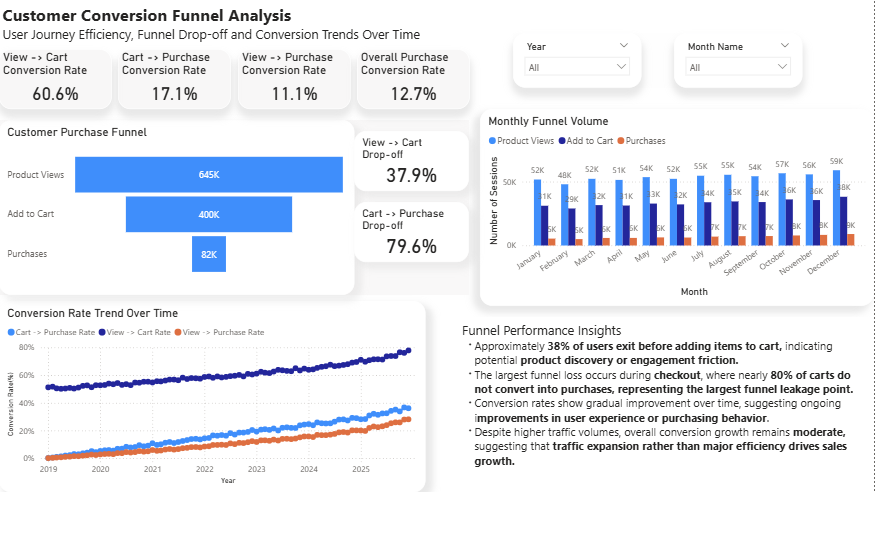

Layout of this report page (visuals, bound fields, positions):
{"tool":"powerbi","page":{"name":"Funnel & Conversion","canvas":[1280,720],"ordinal":1},"visuals":[{"type":"slicer","fields":{"Values":["agg_funnel_metrics.Year"]},"box":[752,48,188.4,80],"z":0,"group":"g3"},{"type":"card","title":"View -> Purchase Conversion Rate","fields":{"Values":["Avg(agg_funnel_metrics.view_to_purchase_rate)"]},"box":[349,72,164.6,88],"z":0,"group":"g1"},{"type":"clusteredColumnChart","title":"Monthly Funnel Volume","fields":{"Category":["agg_funnel_metrics.month.Variation.Date Hierarchy.Month"],"Y":["Sum(agg_funnel_metrics.product_view_sessions)","Sum(agg_funnel_metrics.add_to_cart_sessions)","Sum(agg_funnel_metrics.purchasing_users)"]},"box":[704,160,576,288],"z":0},{"type":"funnel","title":"Customer Purchase Funnel","fields":{"Category":["funnel_stage_table.Funnel Stage"],"Y":["Sum(funnel_stage_table.Funnel Value)"]},"box":[0,176,520,256],"z":0,"group":"g2"},{"type":"slicer","fields":{"Values":["agg_funnel_metrics.Month Name"]},"box":[987.6,48,188.4,80],"z":1000,"group":"g3"},{"type":"card","title":"Cart -> Purchase Conversion Rate","fields":{"Values":["Avg(agg_funnel_metrics.cart_to_purchase_rate)"]},"box":[174.5,72,164.6,88],"z":1000,"group":"g1"},{"type":"card","title":"View -> Cart Drop-off","fields":{"Values":["agg_funnel_metrics.View -> Cart Drop-off"]},"box":[520,192,168,88],"z":1000,"group":"g2"},{"type":"lineChart","title":"Conversion Rate Trend Over Time","fields":{"Y":["Avg(agg_funnel_metrics.cart_to_purchase_rate)","Avg(agg_funnel_metrics.view_to_cart_rate)","Avg(agg_funnel_metrics.view_to_purchase_rate)"],"Category":["agg_funnel_metrics.month.Variation.Date Hierarchy.Year","agg_funnel_metrics.month.Variation.Date Hierarchy.Month"]},"box":[0,440,624,280],"z":1000},{"type":"group","id":"g1","title":"Group 1","box":[0,72,688,88],"z":2000},{"type":"card","title":"View -> Cart Conversion Rate","fields":{"Values":["Avg(agg_funnel_metrics.view_to_cart_rate)"]},"box":[0,72,164.6,88],"z":2000,"group":"g1"},{"type":"card","title":"Cart -> Purchase Drop-off","fields":{"Values":["agg_funnel_metrics.Cart -> Purchase Drop-off"]},"box":[520,296,168,88],"z":2000,"group":"g2"},{"type":"textbox","box":[0,0,704,72],"z":3000},{"type":"card","title":"Overall Purchase Conversion Rate","fields":{"Values":["agg_funnel_metrics.Overall Conversion Rate"]},"box":[523.4,72,164.6,88],"z":3000,"group":"g1"},{"type":"textbox","box":[672,464,608,240],"z":4000},{"type":"group","id":"g2","title":"Group 2","box":[0,176,688,256],"z":5000},{"type":"group","id":"g3","title":"Group 3","box":[752,48,416,80],"z":6000}]}

Visuals, with their boxes on the page's 1280x720 design canvas (x1, y1, x2, y2). These are canvas units, not pixel positions in the 875x550 screenshot, which may show the page scaled, cropped or inside an application window:
slicer - agg_funnel_metrics.Year: (left=752, top=48, right=940, bottom=128)
"View -> Purchase Conversion Rate" card: (left=349, top=72, right=514, bottom=160)
"Monthly Funnel Volume" clusteredColumnChart: (left=704, top=160, right=1280, bottom=448)
"Customer Purchase Funnel" funnel: (left=0, top=176, right=520, bottom=432)
slicer - agg_funnel_metrics.Month Name: (left=988, top=48, right=1176, bottom=128)
"Cart -> Purchase Conversion Rate" card: (left=174, top=72, right=339, bottom=160)
"View -> Cart Drop-off" card: (left=520, top=192, right=688, bottom=280)
"Conversion Rate Trend Over Time" lineChart: (left=0, top=440, right=624, bottom=720)
"Group 1" group: (left=0, top=72, right=688, bottom=160)
"View -> Cart Conversion Rate" card: (left=0, top=72, right=165, bottom=160)
"Cart -> Purchase Drop-off" card: (left=520, top=296, right=688, bottom=384)
textbox: (left=0, top=0, right=704, bottom=72)
"Overall Purchase Conversion Rate" card: (left=523, top=72, right=688, bottom=160)
textbox: (left=672, top=464, right=1280, bottom=704)
"Group 2" group: (left=0, top=176, right=688, bottom=432)
"Group 3" group: (left=752, top=48, right=1168, bottom=128)
